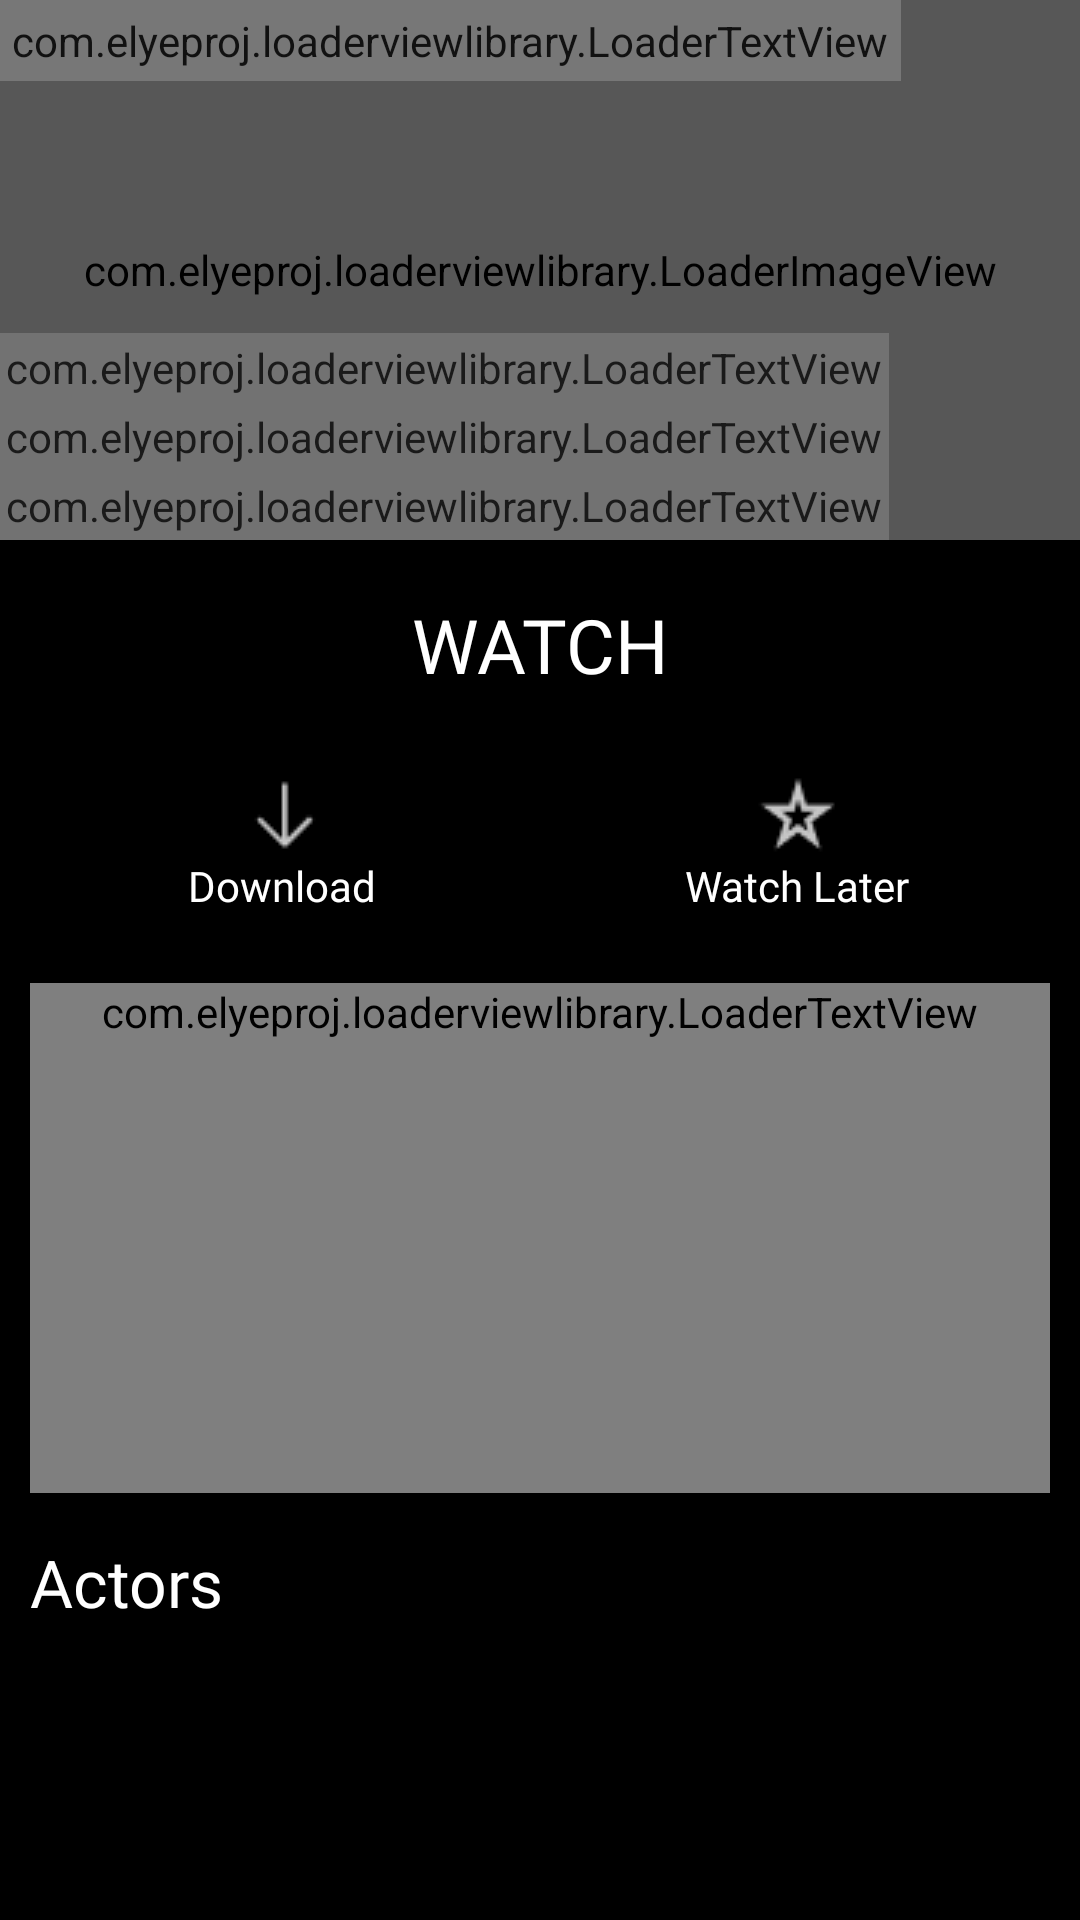

Icon click points for this 1080*1920 phone screenshot, format point (x, y):
star: point (797, 814)
